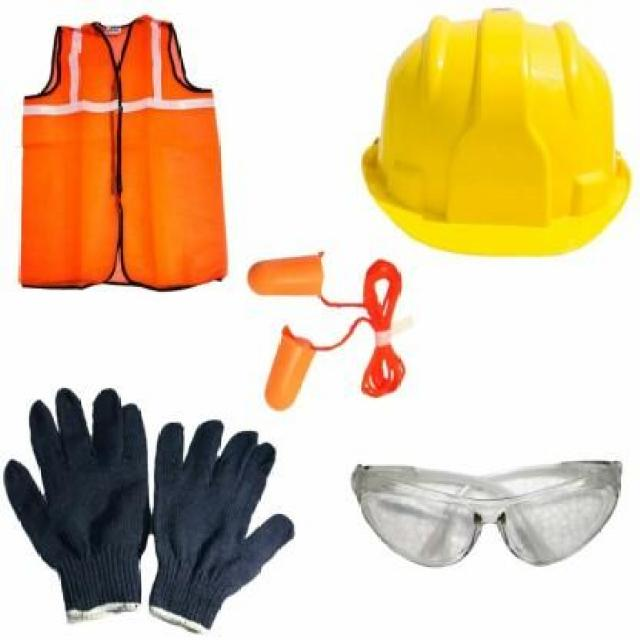Reflective-Jacket: (1, 13, 257, 297)
Safety-Helmet: (352, 7, 640, 255)
